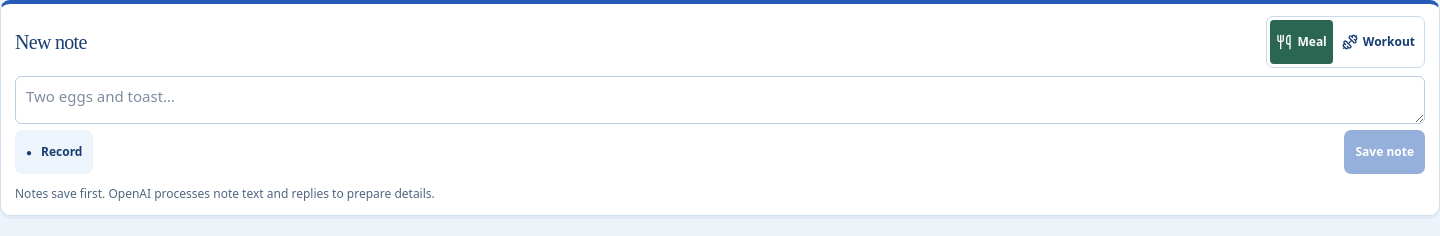
Scenario: typing into the note does not start browser recording
In the text box named "Your note": (720, 100) 15,76 -> 1425,124, type "Keep my draft"
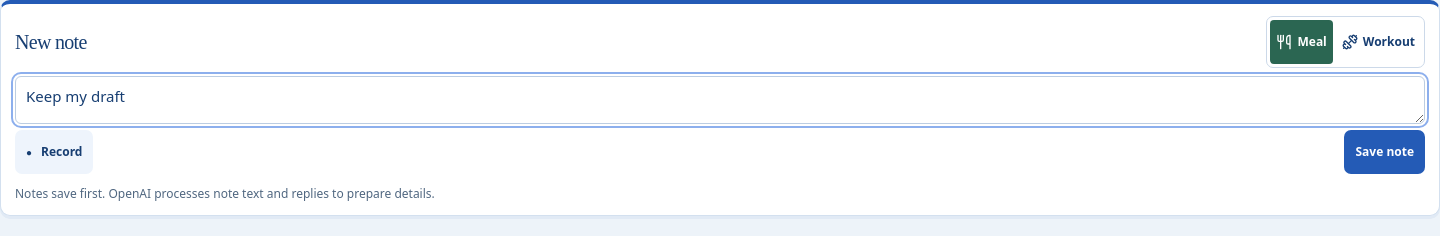
Check: the button "Save note" is enabled, box 1344,130 -> 1425,174
